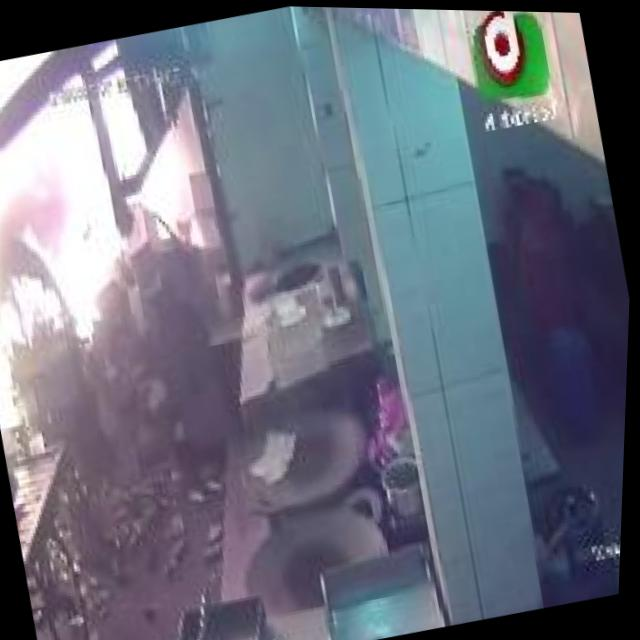fire: (0, 38, 197, 445), (103, 119, 217, 283)
